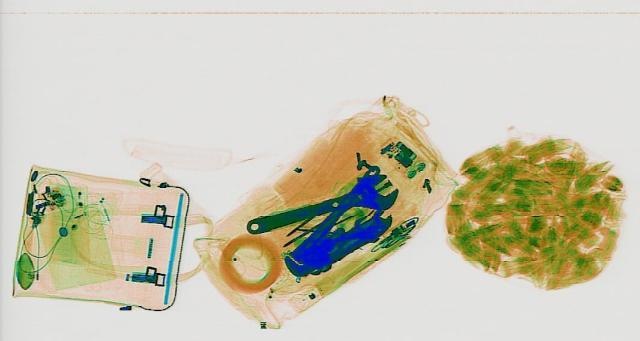Wrench: (227, 170, 413, 240)
